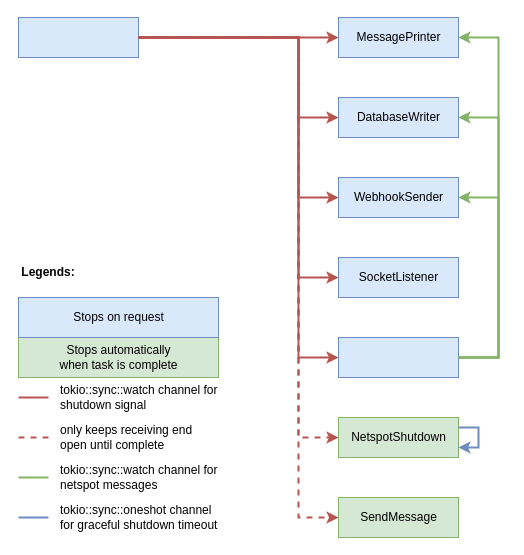
This 524x555 diagram has some shape labels left out. Here are the shapes that lost their labels. From the top down, the centre of each, then its label:
point 78,37: Main
point 398,357: HandleConnection
